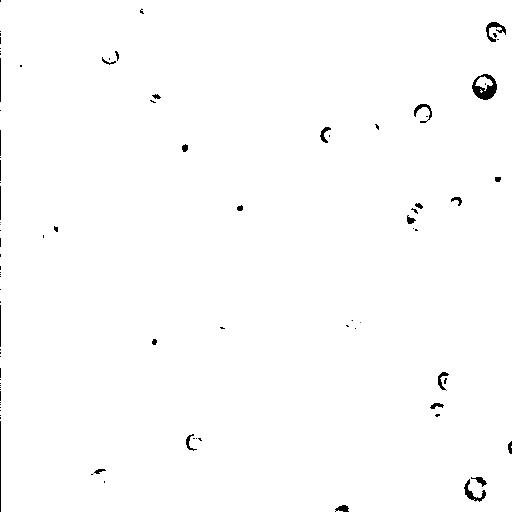micro-algae: (285, 197, 417, 325), (1, 179, 92, 269), (8, 17, 80, 84), (1, 180, 47, 266), (65, 0, 127, 57), (401, 191, 455, 245), (461, 430, 506, 473), (377, 7, 411, 50), (136, 322, 171, 361), (112, 334, 146, 367), (6, 69, 40, 101), (124, 0, 158, 29), (170, 133, 199, 167), (396, 202, 425, 233), (334, 308, 365, 336), (219, 193, 250, 219), (469, 74, 497, 102), (464, 475, 491, 504), (41, 237, 69, 262), (482, 163, 511, 187), (371, 112, 397, 137), (89, 467, 113, 490), (412, 101, 433, 125), (484, 21, 506, 42), (100, 45, 120, 67), (41, 219, 61, 240), (435, 371, 456, 391), (183, 432, 202, 453), (319, 125, 337, 145), (429, 400, 445, 417), (448, 195, 463, 211), (334, 503, 353, 512), (506, 437, 511, 454)
